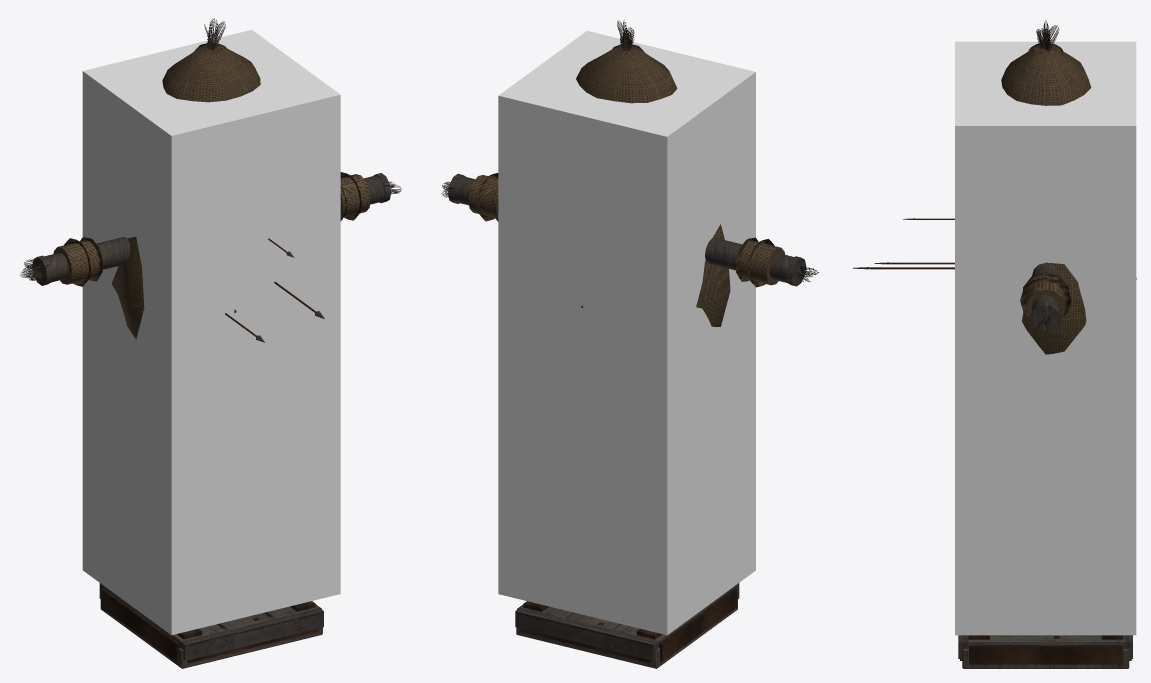
The model's file is dummy_gothic_v2_lite.glb.
3 views of the same model, side by side, from view 1: azimuth 30°, elevation 25°; view 2: azimuth 150°, elevation 25°; view 3: azimuth 270°, elevation 25° (orthographic). The views are drawn at different scales.
Parts seen in each view (by area): view 1: col_dummy, dummy; view 2: col_dummy, dummy; view 3: col_dummy, dummy.
Part boxes in pixels (<box>): col_dummy: <box>82,29,340,635</box>; dummy: <box>20,18,401,668</box>; col_dummy: <box>498,31,755,635</box>; dummy: <box>441,20,818,668</box>; col_dummy: <box>955,41,1136,635</box>; dummy: <box>852,20,1136,668</box>.
Size of the model in its own units: 1.24 by 1.89 by 0.784.
11 materials, 10 textured.
